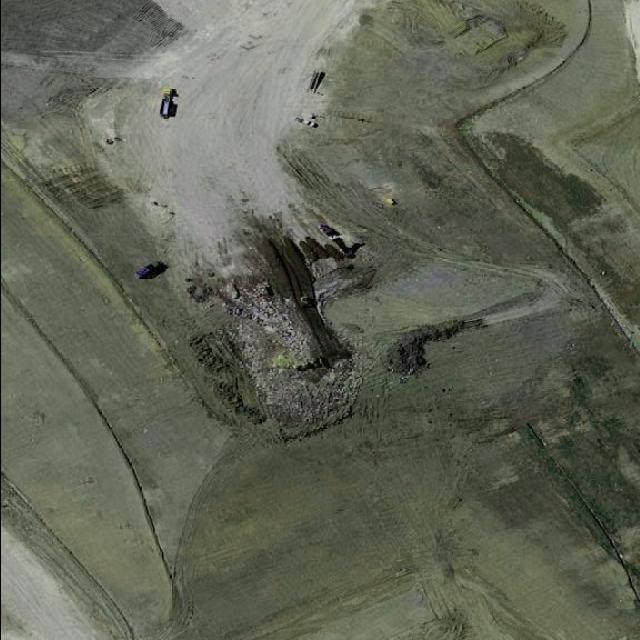dump_site: (201, 270, 384, 439)
